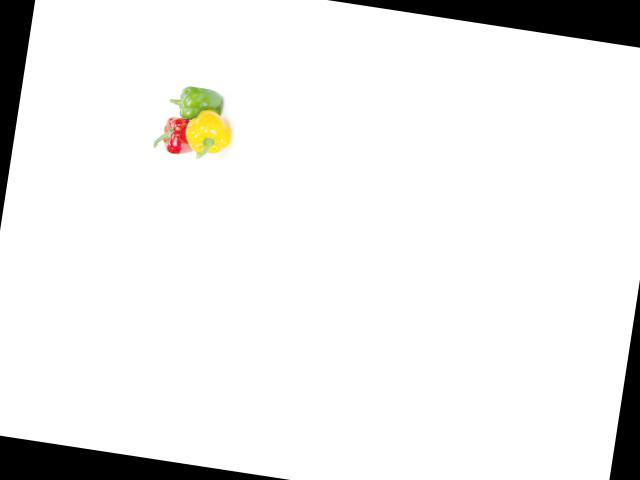bell_pepper: (147, 108, 204, 163)
